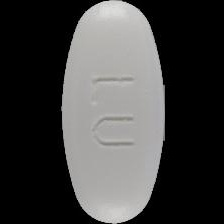42291-593: (0, 0, 224, 224)
